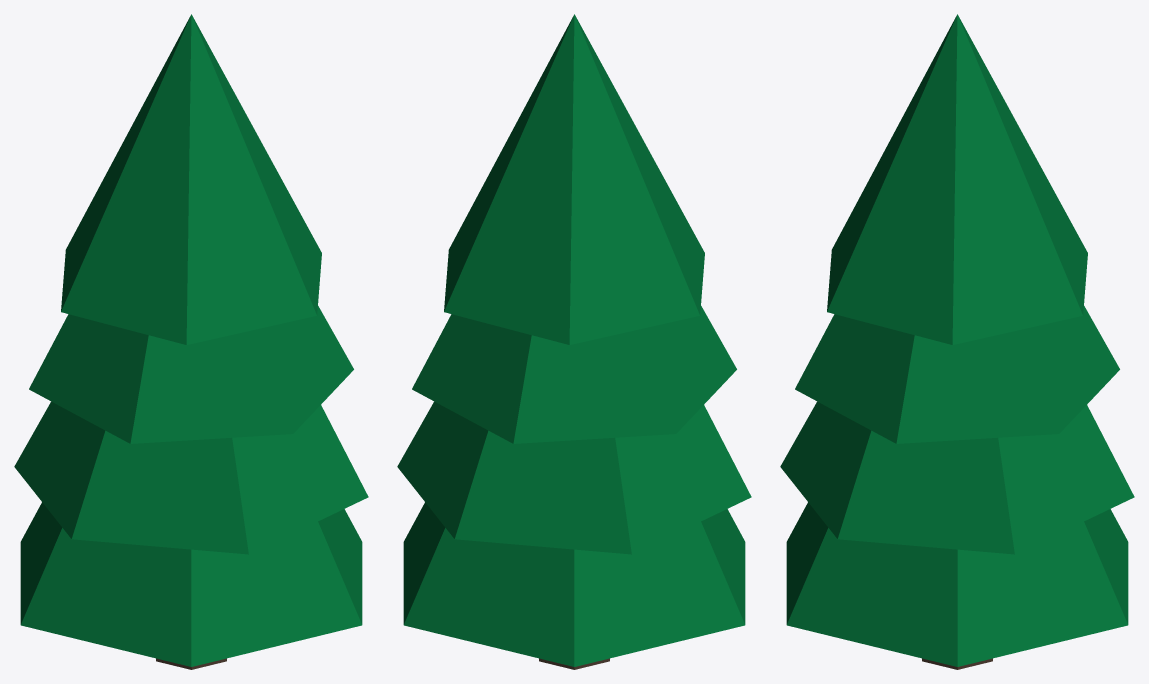
File: SpruceTree.fbx
3 renders of one model, left to right at view 1: azimuth 30°, elevation 25°; view 2: azimuth 150°, elevation 25°; view 3: azimuth 270°, elevation 25°, orthographic.
Visible parts, largest first — view 1: pCone4, pCone1, pCone2, pCone3; view 2: pCone4, pCone1, pCone2, pCone3; view 3: pCone4, pCone1, pCone2, pCone3.
Part boxes in pixels (bbox=[...]): pCone4: bbox=[61, 14, 321, 344]; pCone1: bbox=[20, 502, 362, 666]; pCone2: bbox=[14, 401, 368, 554]; pCone3: bbox=[29, 306, 353, 443]; pCone4: bbox=[444, 14, 704, 344]; pCone1: bbox=[403, 502, 745, 666]; pCone2: bbox=[397, 401, 751, 554]; pCone3: bbox=[412, 306, 736, 443]; pCone4: bbox=[827, 14, 1087, 344]; pCone1: bbox=[786, 502, 1128, 666]; pCone2: bbox=[780, 401, 1134, 554]; pCone3: bbox=[795, 306, 1119, 443].
Bounding box in the file's own units: 2.4 × 4.28 × 2.16.
